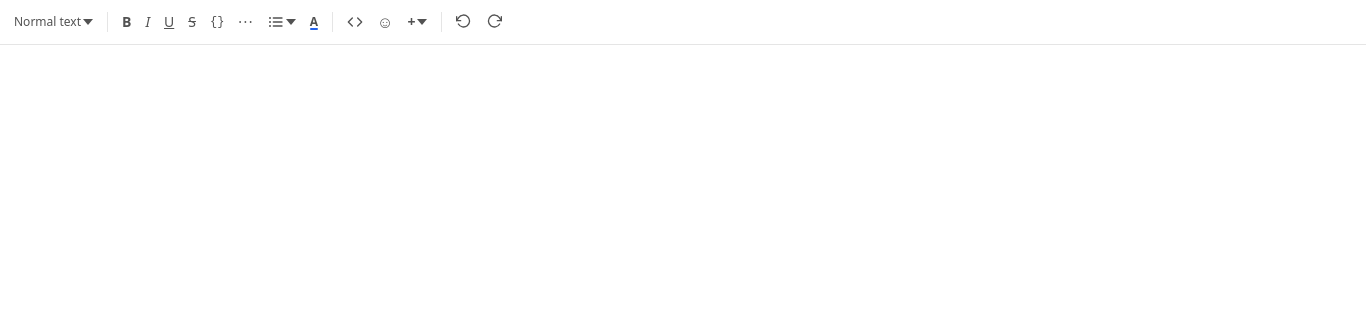
Test: EditorToolbar › TextStyleMenu opens on mousedown and shows heading options
Expected: the text "Heading 1" is not shown
Press the mouse on the button with aria-label "Text styles" at (54, 22), box x1=8 y1=6 x2=99 y2=38
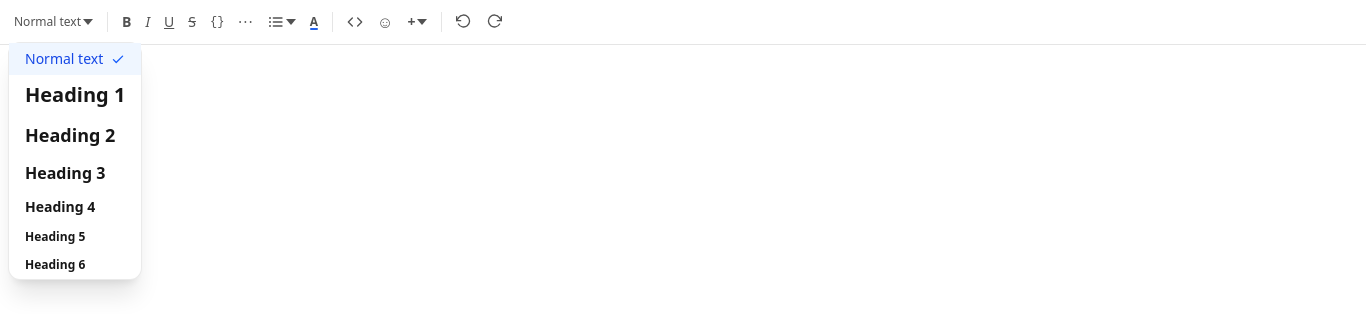
Expected: the 1st text "Normal text" is shown, x1=14 y1=14 x2=81 y2=30
Now the text "Heading 1" is shown, box x1=25 y1=81 x2=125 y2=109
Now the text "Heading 2" is shown, box x1=25 y1=121 x2=115 y2=149
